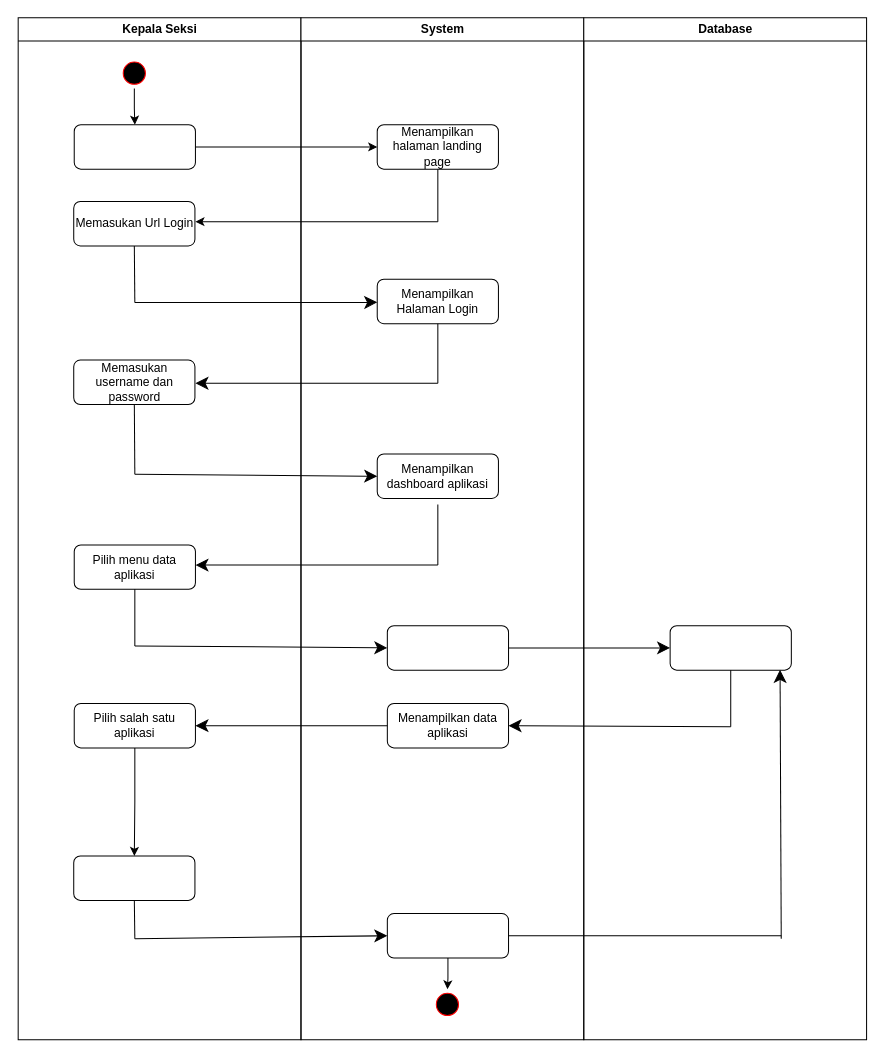
This 884x1057 diagram has some shape labels left out. Each missing label, with the centre of its shape:
"Buka Aplikasi Web SEMA" goes at point 134,146.
"Database aplikasi" goes at point 730,647.
"Meminta data aplikasi" goes at point 447,647.
"Menyimpan data aplikasi" goes at point 447,935.
"Pilih accept atau decline" goes at point 134,877.
